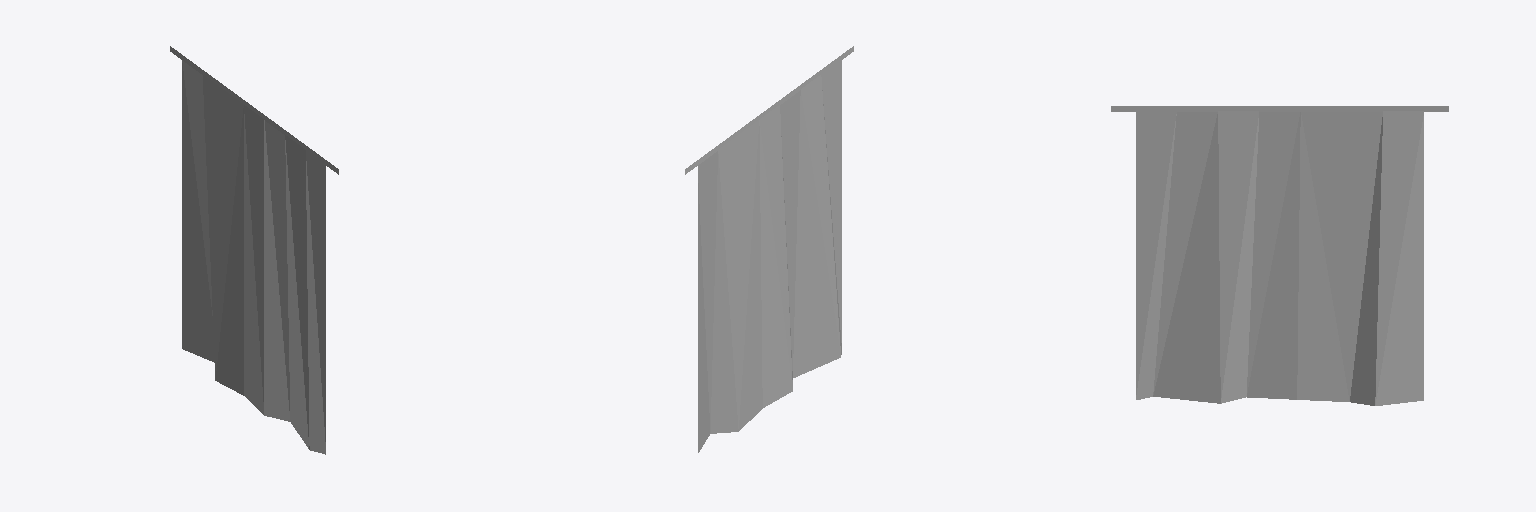
Rendered from curtain.obj.
3 renders of one model, left to right at view 1: azimuth 30°, elevation 25°; view 2: azimuth 150°, elevation 25°; view 3: azimuth 270°, elevation 25°, orthographic.
Visible parts, largest first — view 1: Plane; view 2: Plane; view 3: Plane.
Part boxes in pixels (x1,y1,x2,y2): Plane: (170, 46, 338, 454); Plane: (685, 46, 853, 452); Plane: (1111, 106, 1448, 405).
Size of the model in its own units: 0.4785 by 6.9 by 7.07.